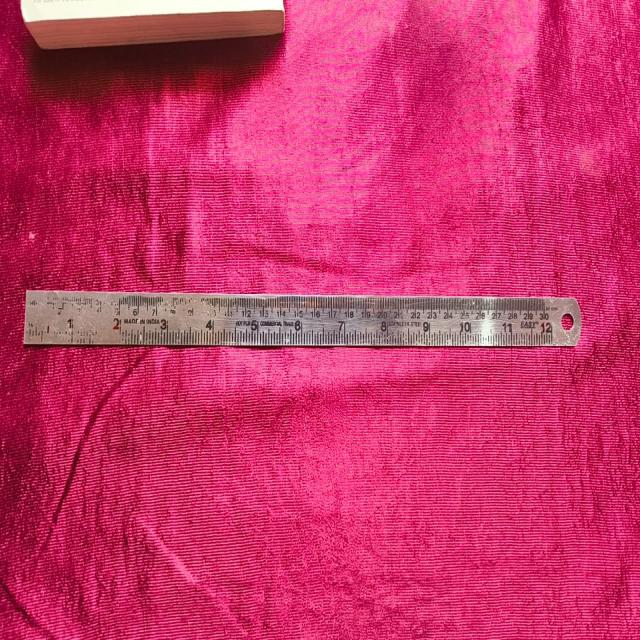scale: (24, 295, 582, 348)
